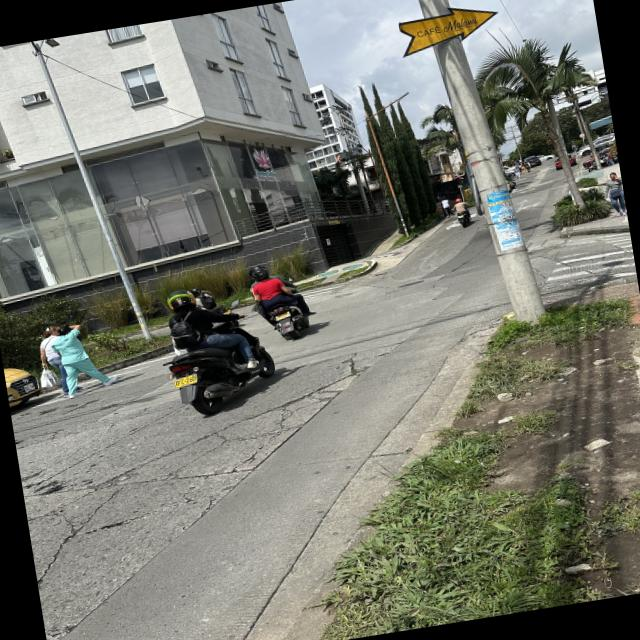number plate: (174, 374, 197, 388)
